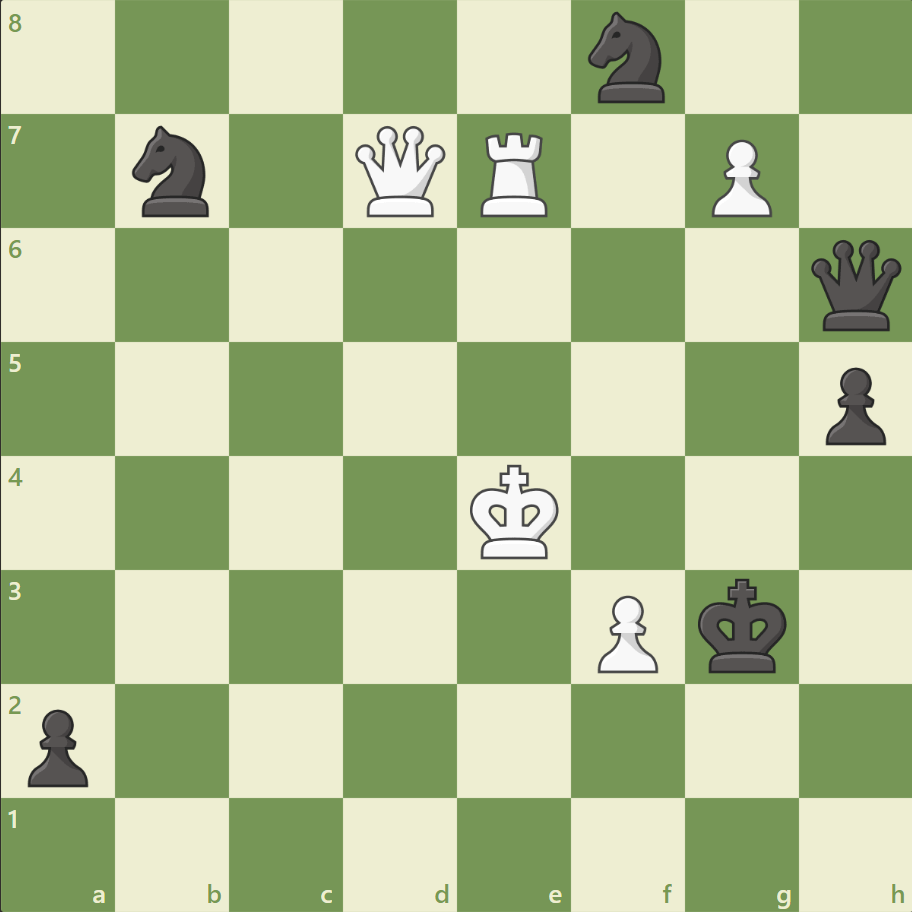K: (465, 458, 565, 566)
P: (701, 132, 776, 223), (588, 586, 662, 677)
Q: (351, 122, 450, 222)
R: (473, 125, 556, 222)
k: (692, 571, 792, 679)
n: (124, 121, 222, 223), (579, 7, 676, 110)
p: (20, 700, 95, 791), (815, 359, 889, 450)
q: (805, 236, 904, 335)
